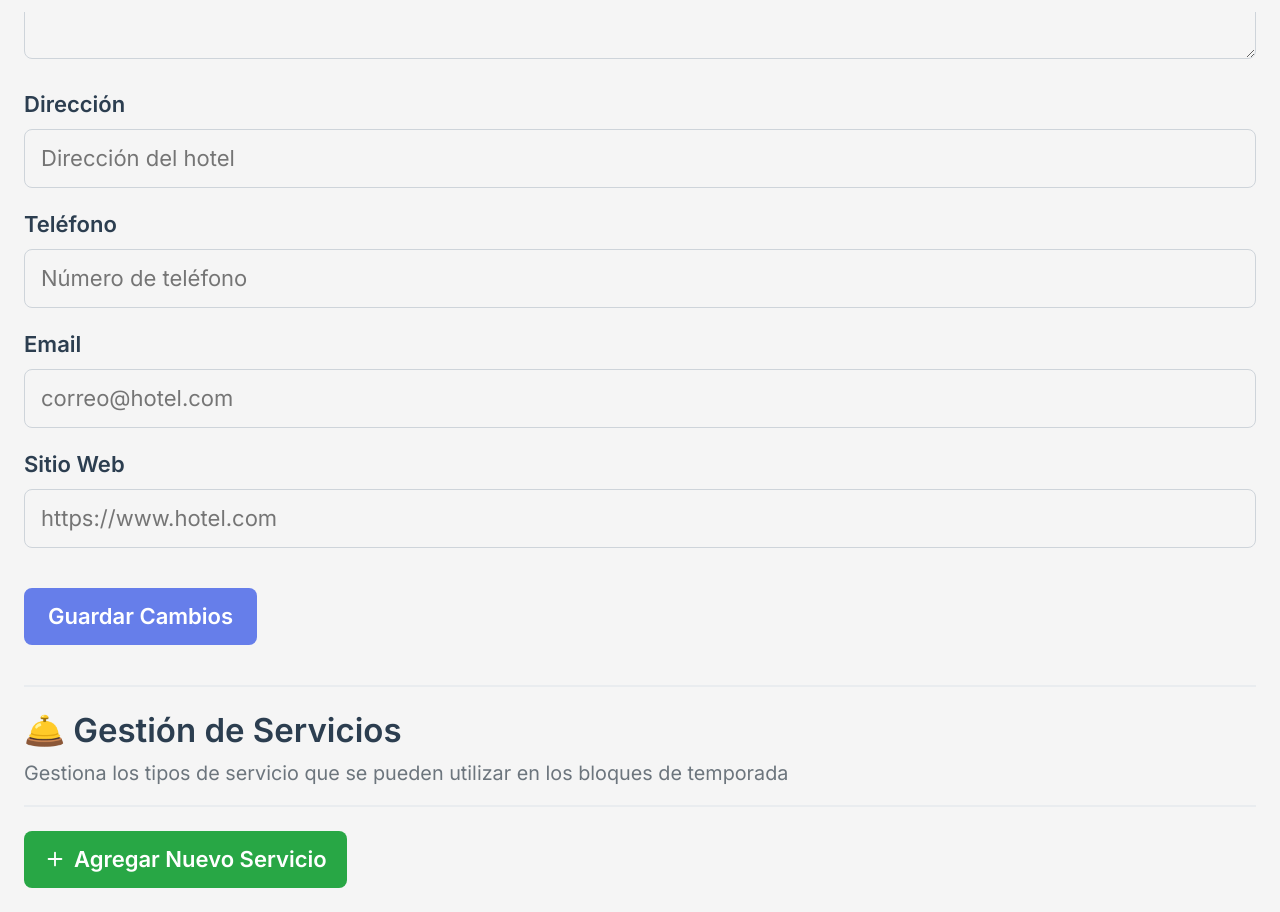
Scenario: HotelConfigPanel › maneja errores al enviar el formulario
# Enviar el formulario
Click the button "Guardar Cambios" at (141, 617), box [24,588,257,645]
(page scrolled)
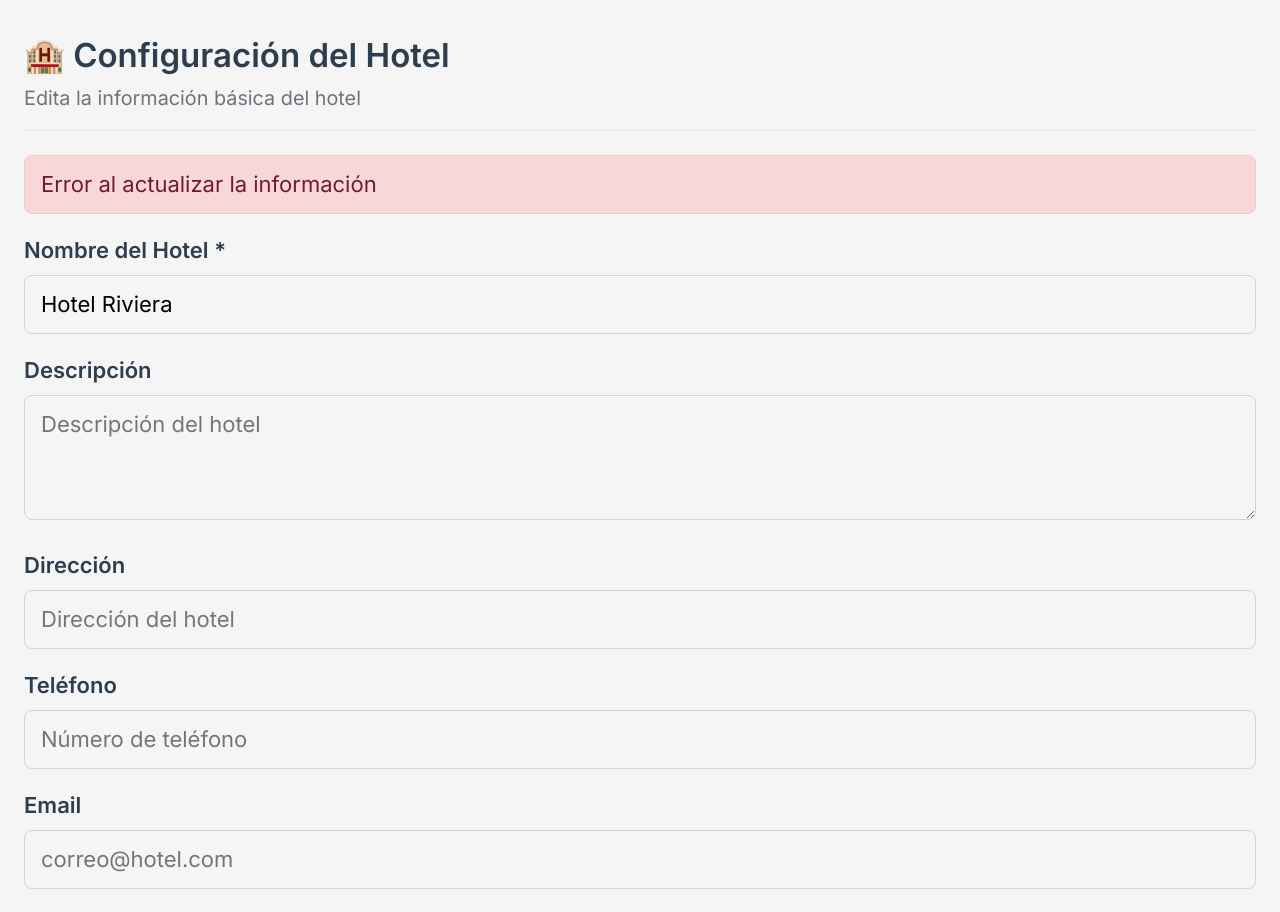
Expected: the text "Error al actualizar la información" is shown, [24,155,1256,214]
